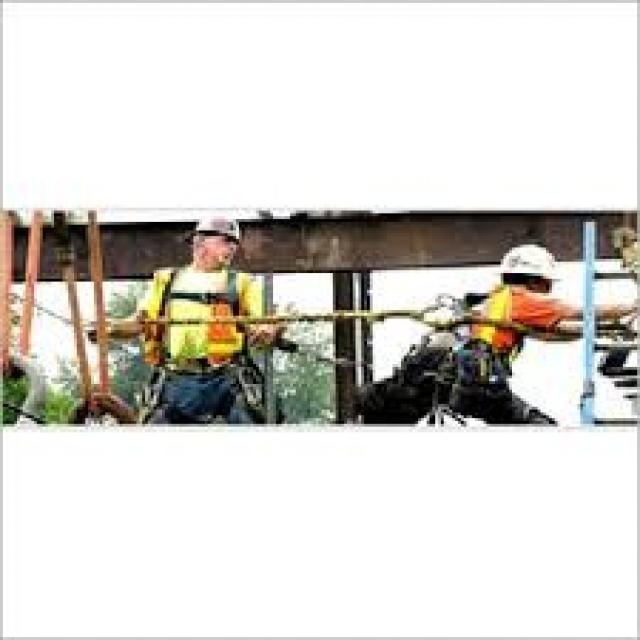reflective_jacket: (131, 262, 273, 387), (458, 284, 546, 383)
safety_helmet: (489, 235, 566, 287), (179, 204, 253, 253)
